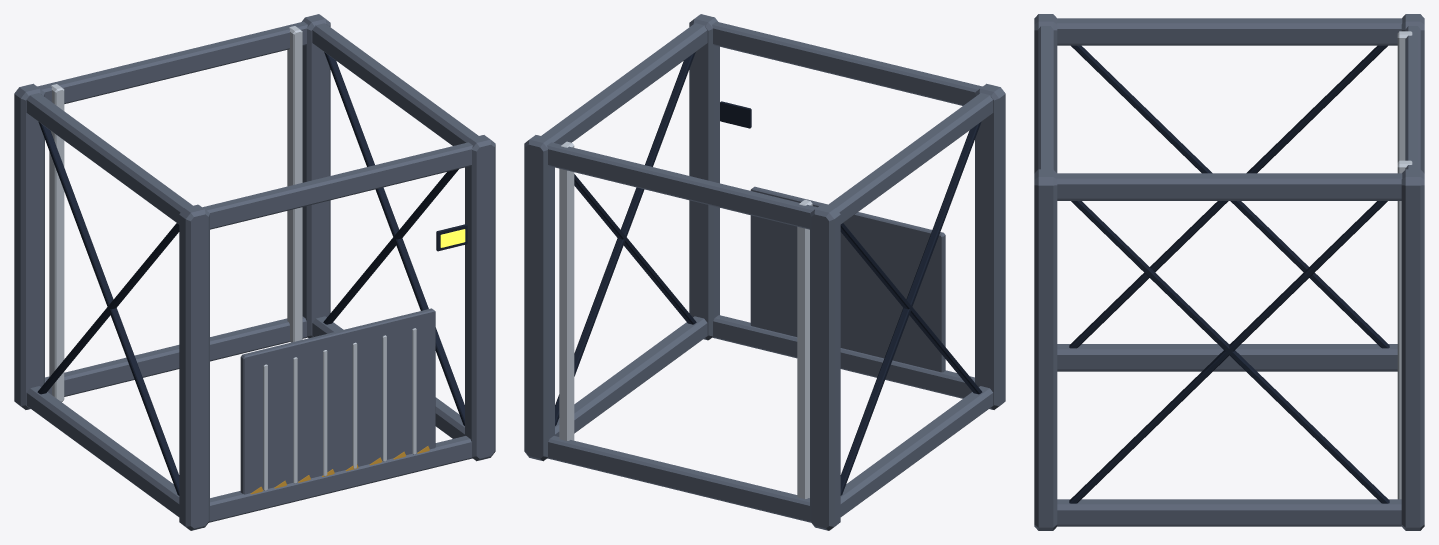
File: shared_elevator_shaft.glb
The picture shows the model from 3 angles, left to right: view 1: azimuth 30°, elevation 25°; view 2: azimuth 150°, elevation 25°; view 3: azimuth 270°, elevation 25°; orthographic projection. The views are drawn at different scales.
Parts seen in each view (by area): view 1: shaft_gate_frame, shaft_col-2.42.4, shaft_col2.42.4, shaft_col-2.4-2.4, shaft_col2.4-2.4, shaft_beam4.8502.4, shaft_beam4.850-2.4, shaft_beam0.1502.4, shaft_beam0.150-2.4, shaft_beam4.85-2.40, shaft_beam4.852.40, shaft_rail1 (+13 smaller); view 2: shaft_gate_frame, shaft_col-2.4-2.4, shaft_col2.4-2.4, shaft_col-2.42.4, shaft_col2.42.4, shaft_beam4.850-2.4, shaft_beam4.8502.4, shaft_beam0.150-2.4, shaft_beam0.1502.4, shaft_beam4.85-2.40, shaft_beam4.852.40, shaft_beam0.15-2.40 (+8 smaller); view 3: shaft_beam4.852.40, shaft_beam4.85-2.40, shaft_beam0.152.40, shaft_beam0.15-2.40, shaft_col2.4-2.4, shaft_col2.42.4, shaft_brace10, shaft_brace11, shaft_brace-10, shaft_brace-11, shaft_beam4.8502.4, shaft_beam4.850-2.4 (+4 smaller).
Boxes of the visible parts, x1,y1,x2,y2 form: shaft_gate_frame: (240, 308, 435, 494); shaft_col-2.42.4: (179, 204, 209, 530); shaft_col2.42.4: (465, 135, 495, 461); shaft_col-2.4-2.4: (14, 83, 44, 409); shaft_col2.4-2.4: (302, 14, 330, 338); shaft_beam4.8502.4: (202, 142, 472, 229); shaft_beam4.850-2.4: (37, 21, 307, 103); shaft_beam0.1502.4: (209, 436, 472, 522); shaft_beam0.150-2.4: (45, 316, 307, 396); shaft_beam4.85-2.40: (26, 93, 192, 224); shaft_beam4.852.40: (312, 23, 478, 145); shaft_rail1: (287, 26, 302, 342); shaft_gate_frame: (750, 186, 945, 372); shaft_col-2.4-2.4: (810, 204, 840, 530); shaft_col2.4-2.4: (524, 135, 554, 461); shaft_col-2.42.4: (975, 83, 1005, 409); shaft_col2.42.4: (689, 14, 719, 340); shaft_beam4.850-2.4: (547, 142, 817, 229); shaft_beam4.8502.4: (712, 21, 982, 105); shaft_beam0.150-2.4: (547, 436, 810, 522); shaft_beam0.1502.4: (712, 315, 974, 398); shaft_beam4.85-2.40: (827, 93, 993, 224); shaft_beam4.852.40: (541, 23, 707, 144); shaft_beam0.15-2.40: (840, 386, 993, 516); shaft_beam4.852.40: (1056, 173, 1402, 200); shaft_beam4.85-2.40: (1056, 18, 1402, 45); shaft_beam0.152.40: (1057, 499, 1401, 526); shaft_beam0.15-2.40: (1057, 344, 1397, 371); shaft_col2.4-2.4: (1401, 169, 1424, 530); shaft_col2.42.4: (1034, 169, 1057, 530); shaft_brace10: (1069, 201, 1387, 503); shaft_brace11: (1071, 201, 1389, 503); shaft_brace-10: (1069, 45, 1387, 348); shaft_brace-11: (1071, 45, 1389, 348); shaft_beam4.8502.4: (1038, 26, 1053, 169); shaft_beam4.850-2.4: (1405, 26, 1420, 169).
Bounding box in the file's own units: 5.21 × 5.11 × 5.1.
